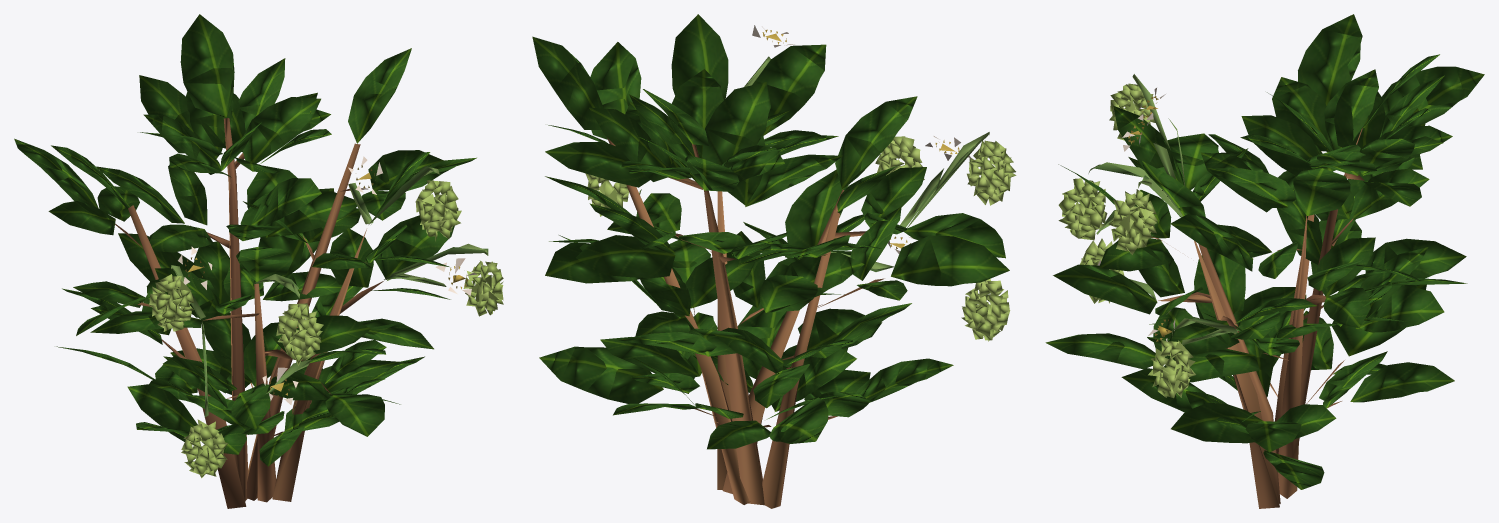
File: NP_Blackberry_Flowering_LOD1.fbx
3 views of the same model, side by side, from view 1: azimuth 30°, elevation 25°; view 2: azimuth 150°, elevation 25°; view 3: azimuth 270°, elevation 25° (orthographic). The views are drawn at different scales.
Visible parts, largest first — view 1: NP_Blackberry_Flowering; view 2: NP_Blackberry_Flowering; view 3: NP_Blackberry_Flowering.
Part boxes in pixels (x1,y1,x2,y2): NP_Blackberry_Flowering: (14,14,503,508); NP_Blackberry_Flowering: (532,14,1016,508); NP_Blackberry_Flowering: (1045,14,1484,508).
Size of the model in its own units: 75.54 by 75.62 by 66.72.
1 material, 1 textured.
